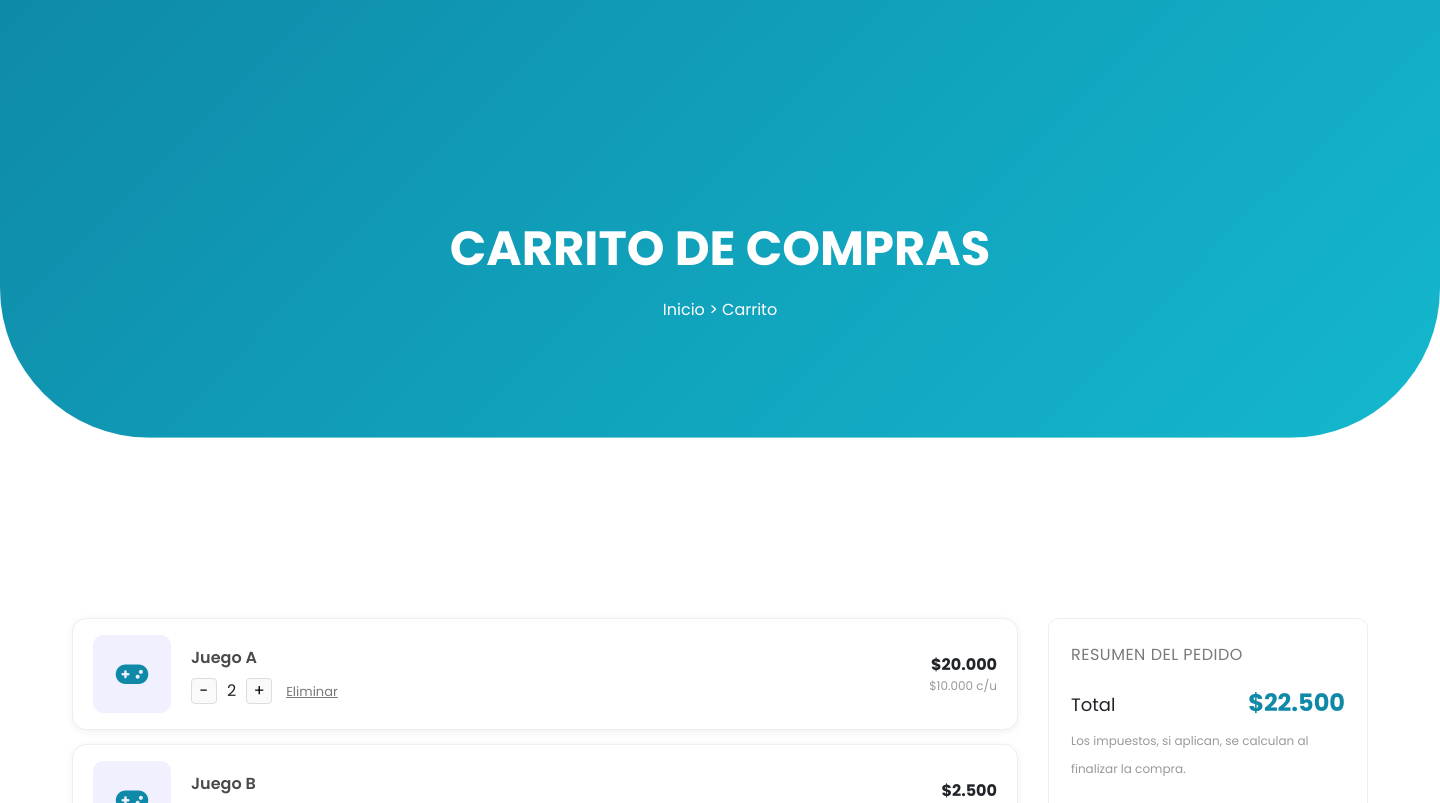
Scenario: Página Carrito › Eliminar quita la fila del producto
Step 1. Click the button "Eliminar" below "Juego A" → (312, 691), box [286, 682, 338, 701]
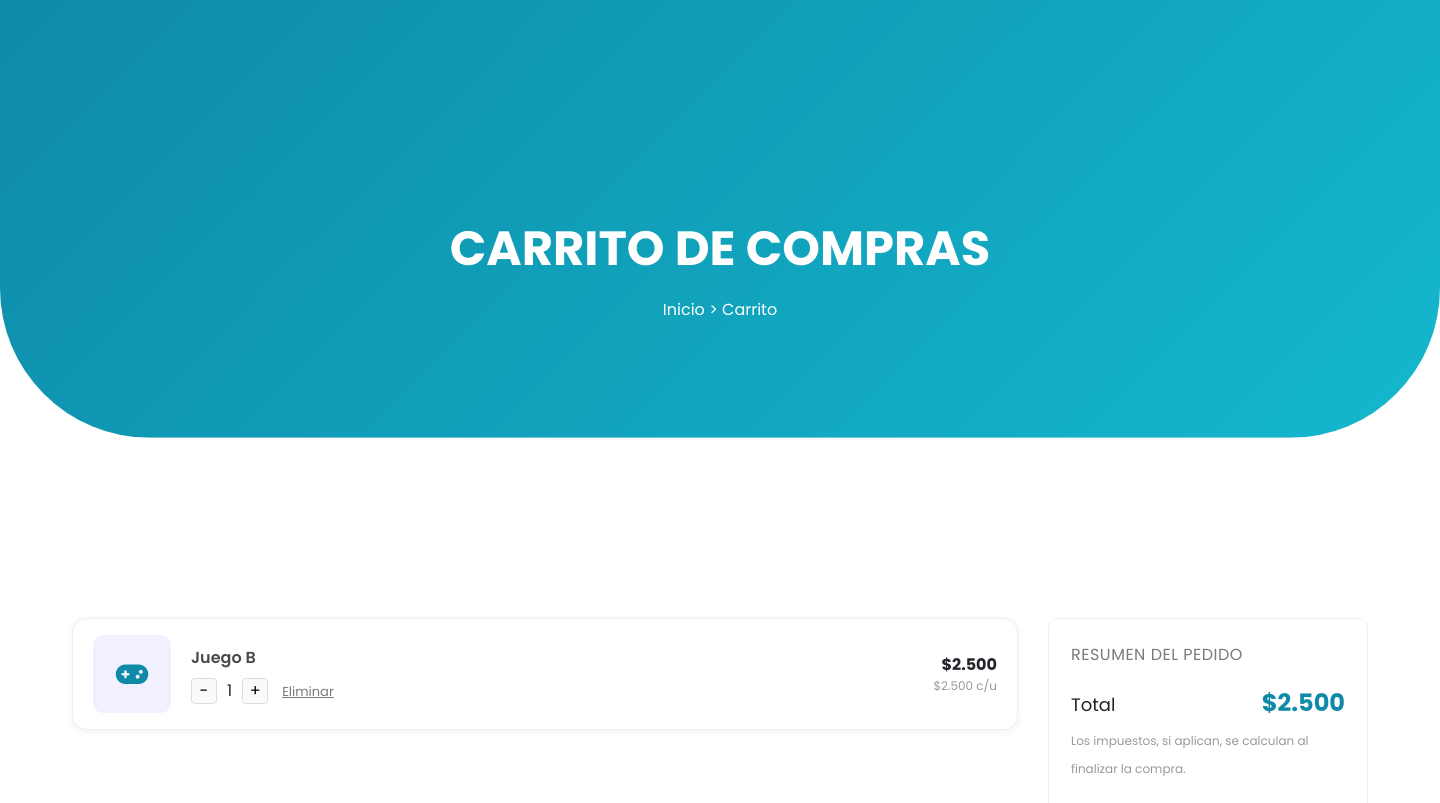
Check: the text "Juego A" is gone
Check: the text "$2.500" next to "Total" is shown, box [1262, 686, 1345, 719]
